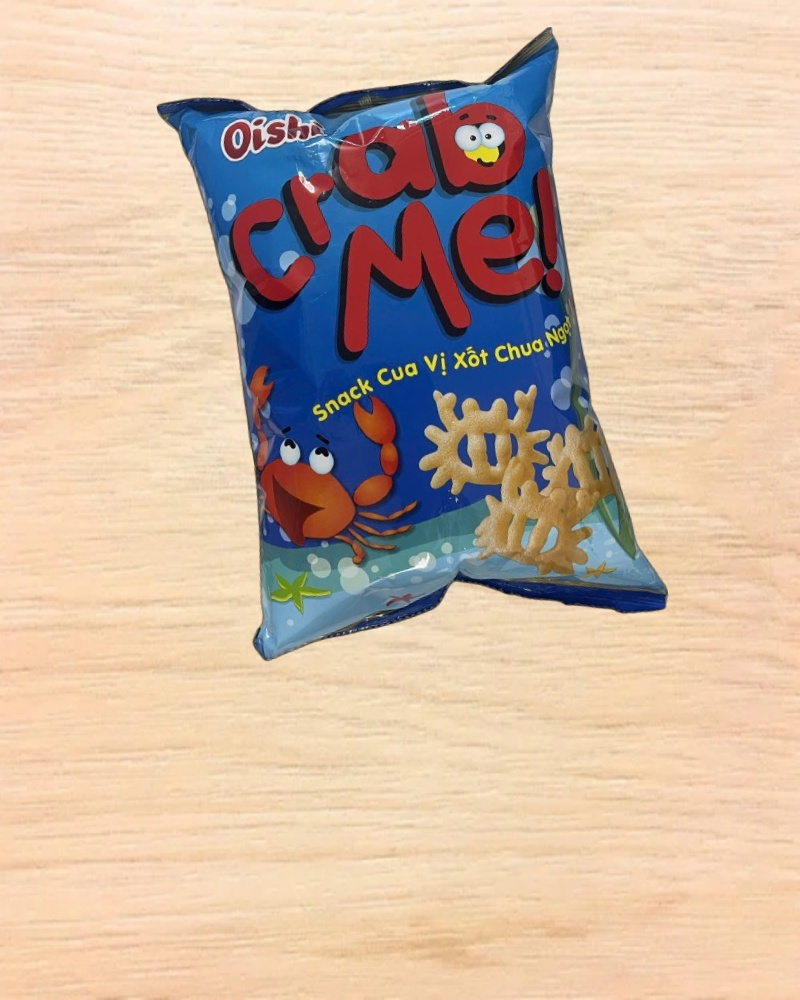Snack chay: (156, 25, 671, 683)
